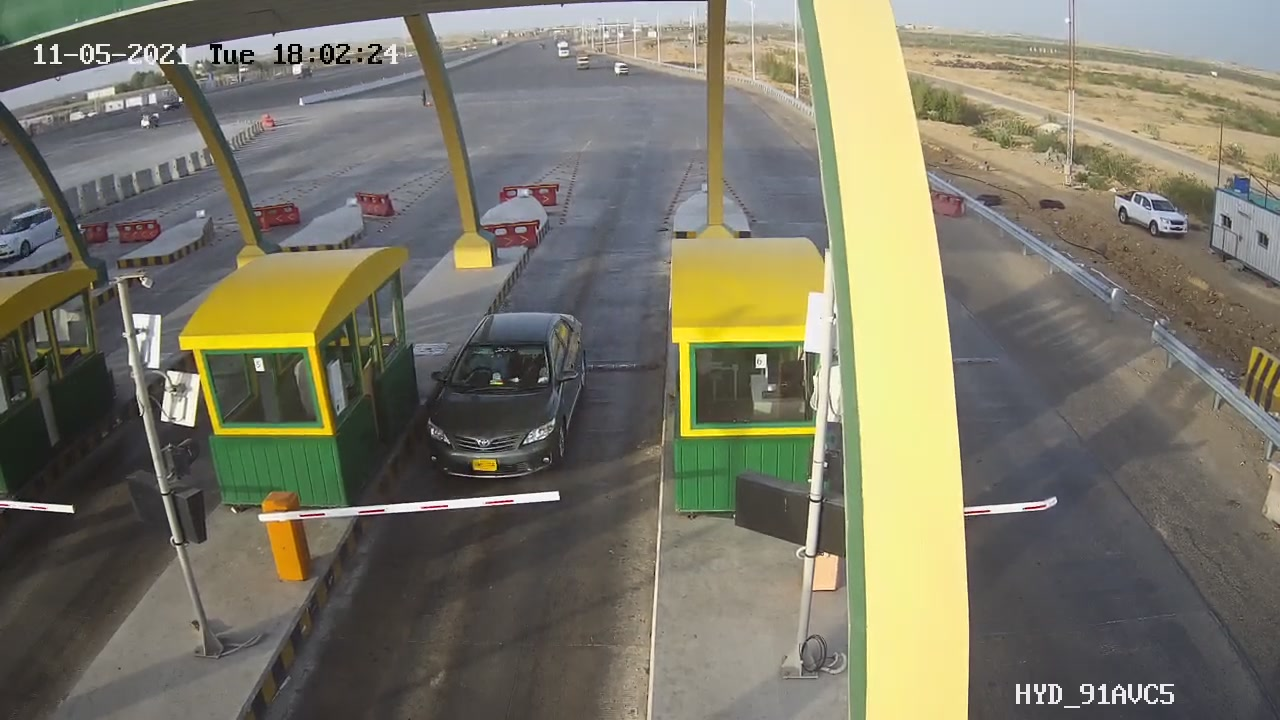F1: (411, 300, 609, 487)
